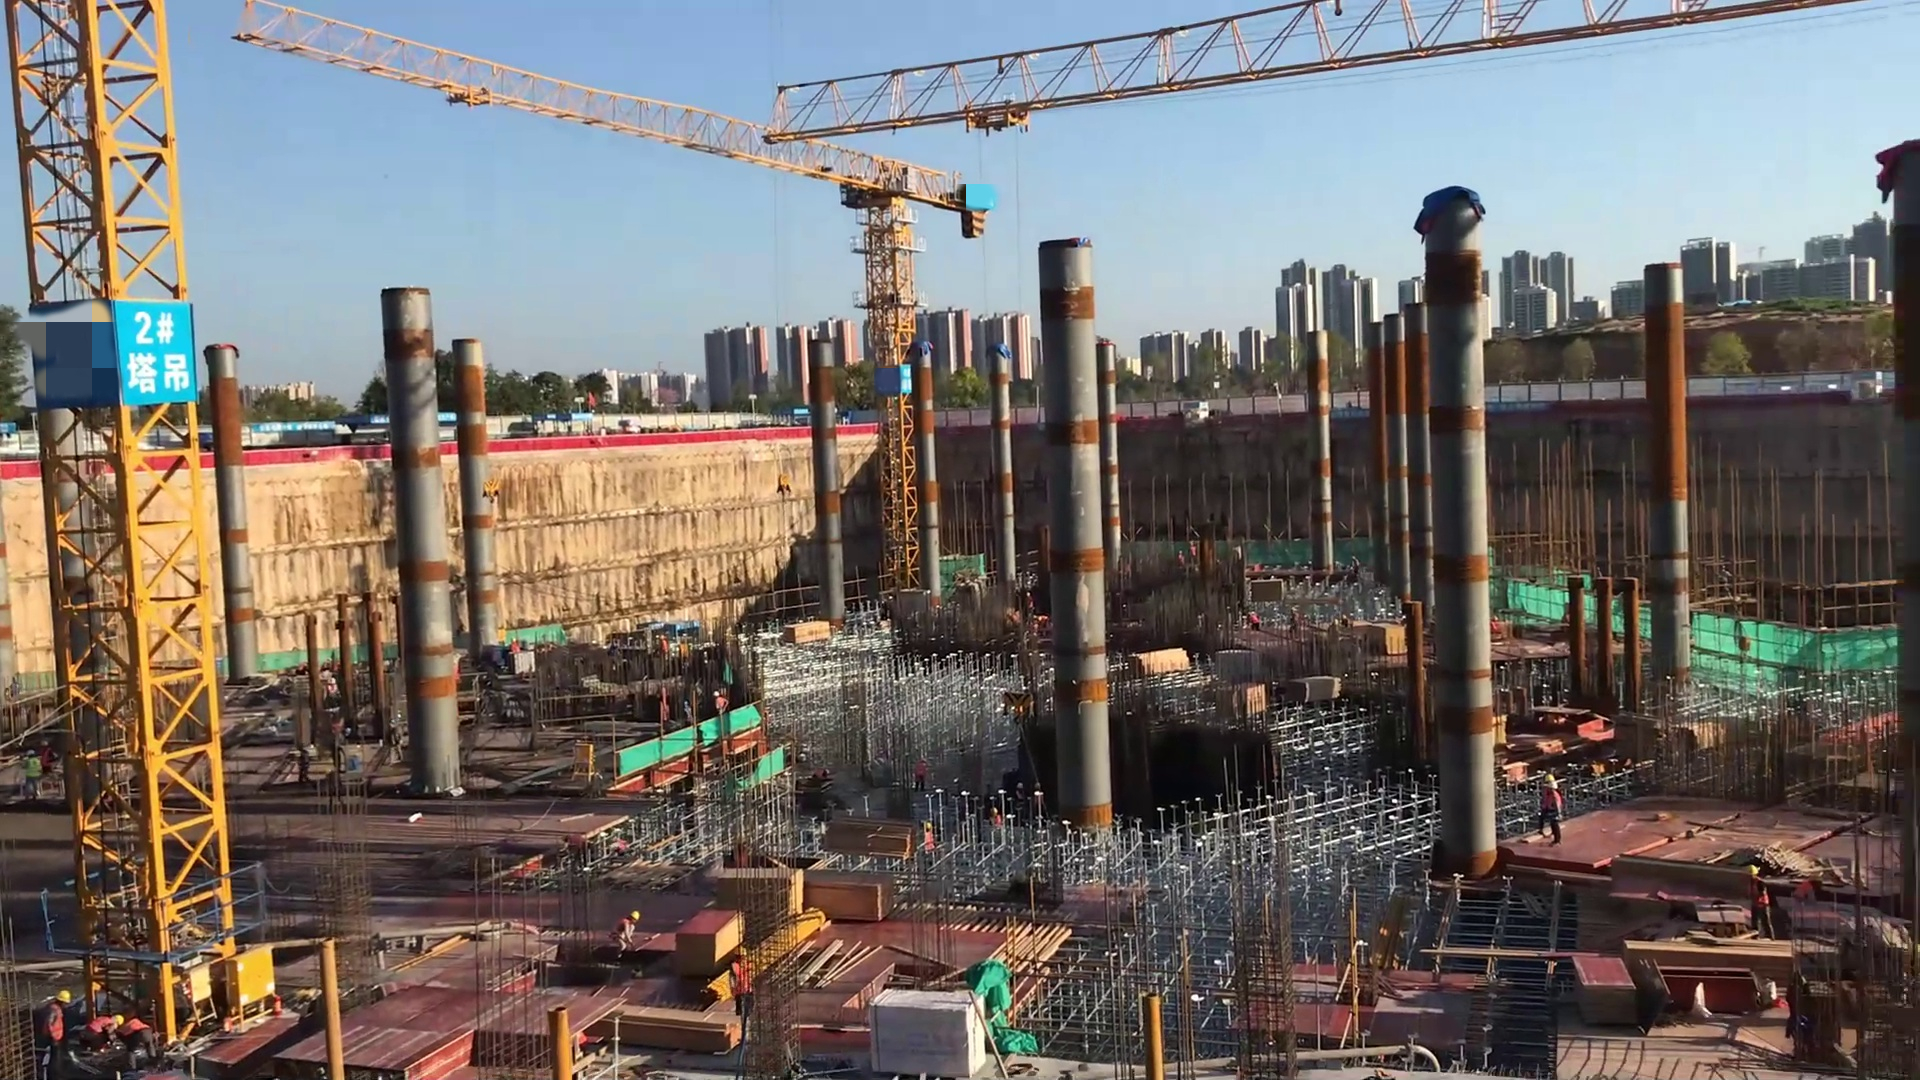board: (1570, 956, 1640, 1034), (673, 910, 748, 981), (717, 865, 800, 926), (1366, 623, 1409, 655)
ebox: (572, 737, 602, 787)
helmet: (54, 987, 75, 1005), (731, 942, 751, 958), (108, 1012, 124, 1031), (626, 909, 642, 925), (1745, 862, 1760, 877), (1547, 781, 1558, 794), (1545, 772, 1556, 784), (25, 748, 36, 759), (926, 820, 933, 836), (989, 806, 999, 816), (713, 689, 724, 699), (660, 634, 668, 643)
hook: (477, 476, 508, 509), (775, 466, 797, 503)
person: (1741, 860, 1777, 952), (721, 942, 756, 1029), (42, 980, 72, 1056), (120, 1014, 163, 1066), (607, 908, 645, 967), (1539, 770, 1561, 843), (1788, 870, 1826, 911), (87, 1013, 123, 1056), (562, 829, 591, 874), (1549, 777, 1566, 850), (41, 735, 63, 789), (23, 748, 43, 804), (922, 820, 938, 870), (710, 685, 731, 720), (1286, 604, 1305, 641), (1243, 606, 1263, 639), (914, 755, 931, 793), (507, 634, 523, 670), (657, 633, 673, 666), (985, 806, 1006, 829), (682, 700, 694, 730)
slogan: (126, 291, 209, 413), (1486, 399, 1555, 414), (1335, 407, 1372, 419)
vest: (1745, 878, 1773, 917), (729, 961, 754, 999), (45, 1003, 67, 1044), (84, 1013, 116, 1037), (25, 757, 40, 782)
wood: (1621, 934, 1797, 1001), (599, 1006, 746, 1057), (804, 868, 894, 921), (824, 816, 918, 857), (1126, 644, 1199, 679), (779, 613, 836, 646), (1289, 672, 1343, 707)
